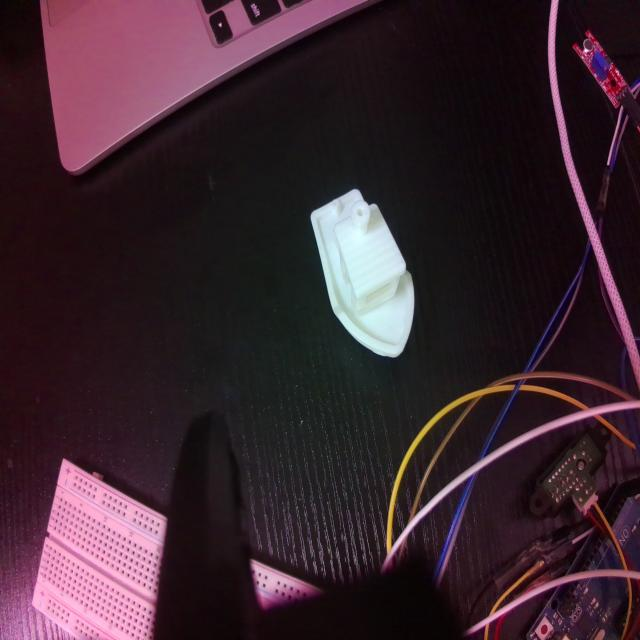ship: (309, 186, 416, 358)
